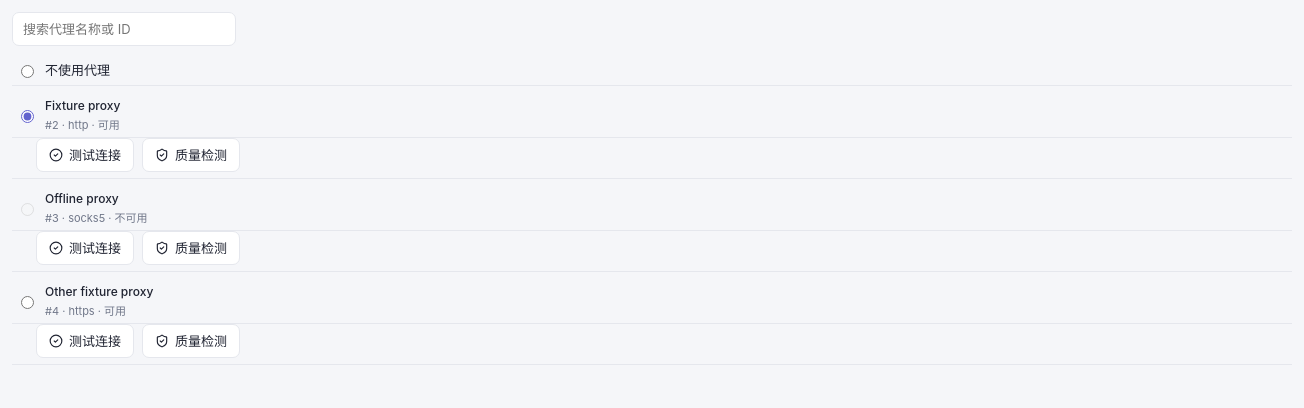
Scenario: shared proxy options › shows an explicit unsupported-interface response without retrying
Click the 1st button "测试连接" at point(85, 155), box [36, 138, 134, 172]
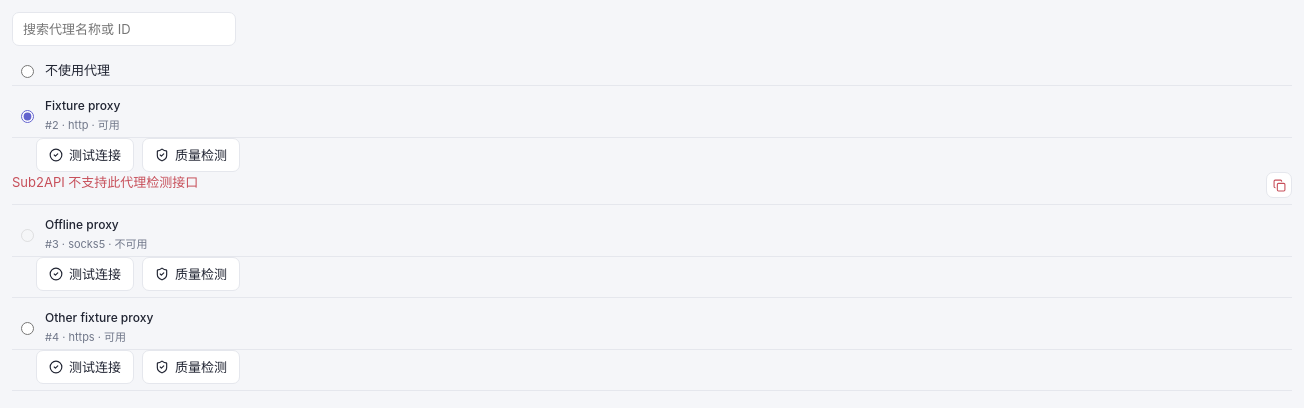
Result: the message "Sub2API 不支持此代理检测接口" is shown at [12, 172, 1292, 198]
